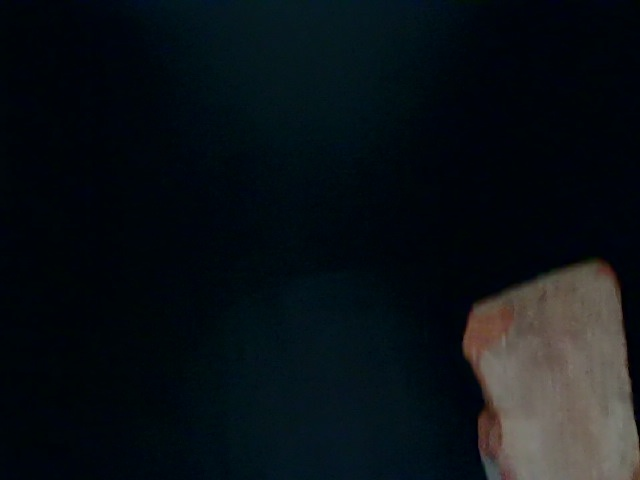KHSLJ: (148, 189, 486, 480)
